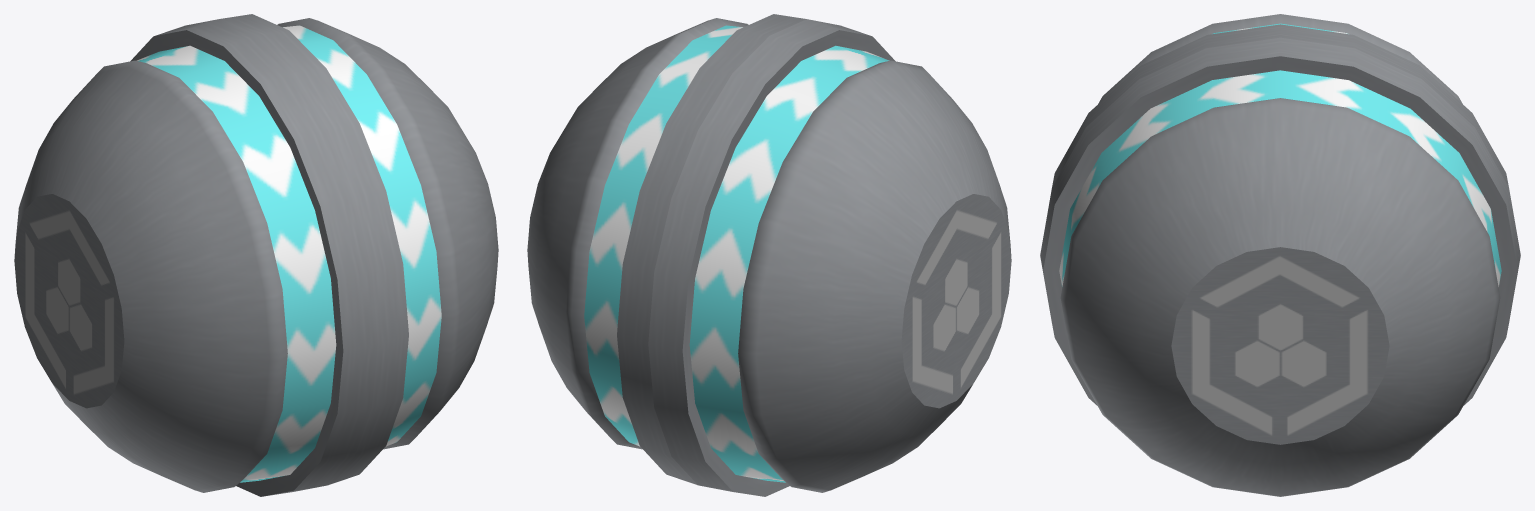
File: 02_Ball.fbx
The picture shows the model from 3 angles, left to right: view 1: azimuth 30°, elevation 25°; view 2: azimuth 150°, elevation 25°; view 3: azimuth 270°, elevation 25°; orthographic projection.
Visible parts, largest first — view 1: polySurface1, polySurface4, polySurface2; view 2: polySurface1, polySurface4, polySurface2; view 3: polySurface4, polySurface2, polySurface1.
Boxes of the visible parts, <box> form: polySurface1: <box>14,19,377,496</box>; polySurface4: <box>219,14,498,485</box>; polySurface2: <box>14,194,124,408</box>; polySurface1: <box>648,19,1011,496</box>; polySurface4: <box>527,14,806,485</box>; polySurface2: <box>901,194,1011,408</box>; polySurface4: <box>1040,37,1520,496</box>; polySurface2: <box>1171,247,1389,444</box>; polySurface1: <box>1052,14,1508,187</box>.
Bounding box in the file's own units: 4.1 × 4.6 × 4.6.
Materials: 2 (2 with a texture image).
